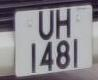1: (27, 41, 41, 76), (70, 37, 81, 73)
4: (38, 40, 56, 74)
8: (54, 39, 72, 73)
H: (54, 4, 74, 43)
U: (36, 7, 56, 43)
